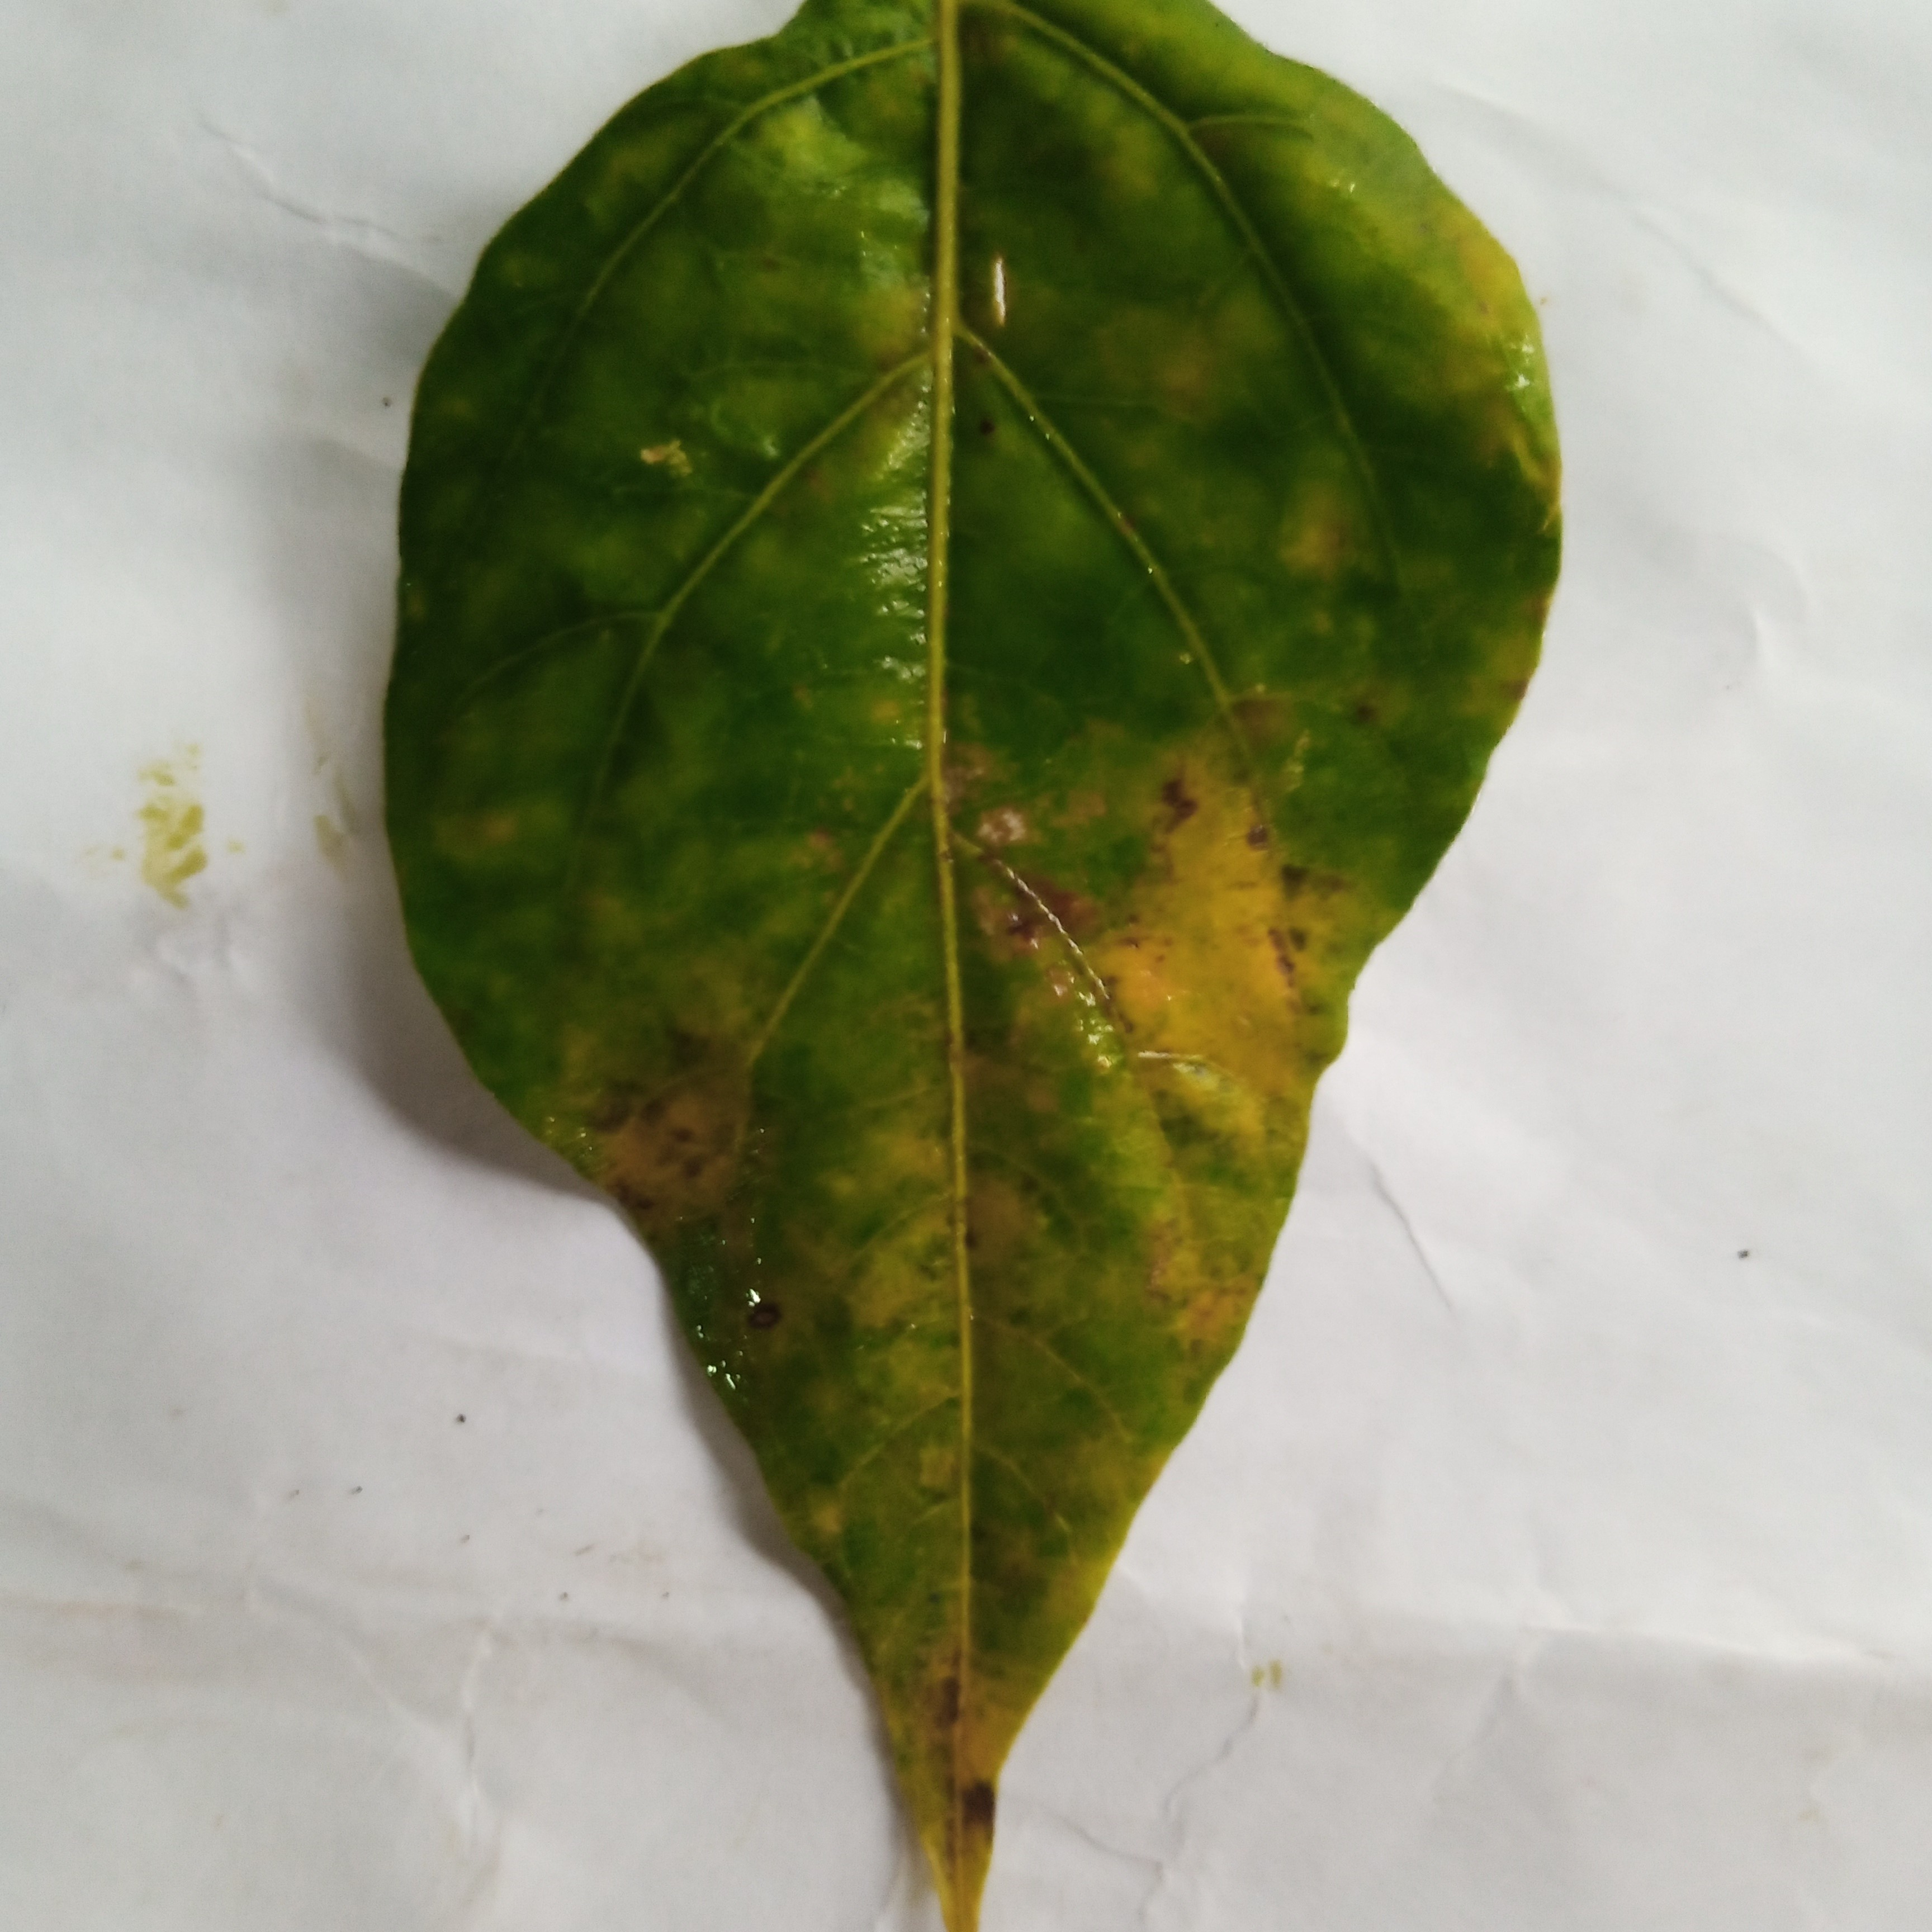Leaf: (212, 12, 1711, 1932)
